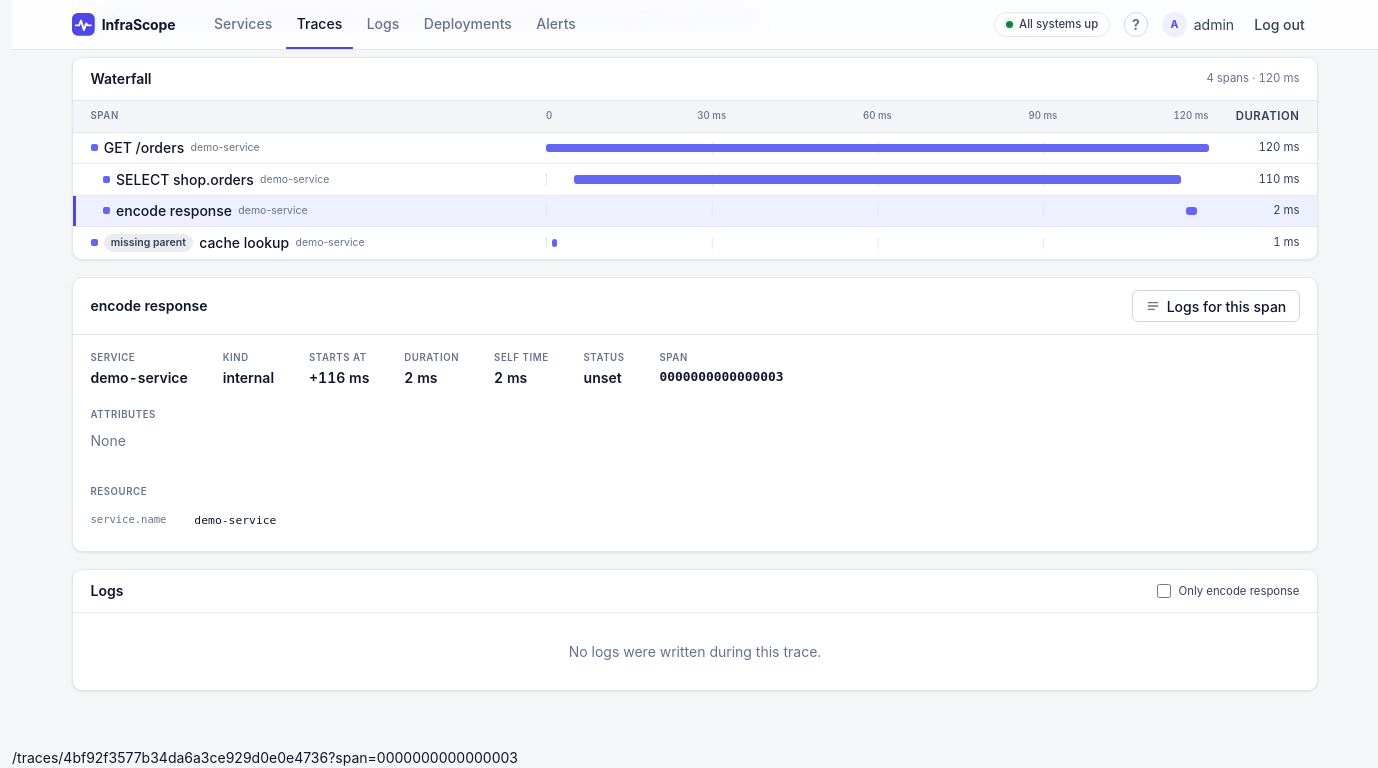
Test: trace detail › narrows the logs to the selected span
(page scrolled)
Check: the text "No logs were written during this trace." is shown, box [569,643,821,660]
Click the checkbox labelled "Only encode response".
click(1164, 591)  # box [1158,584,1172,598]
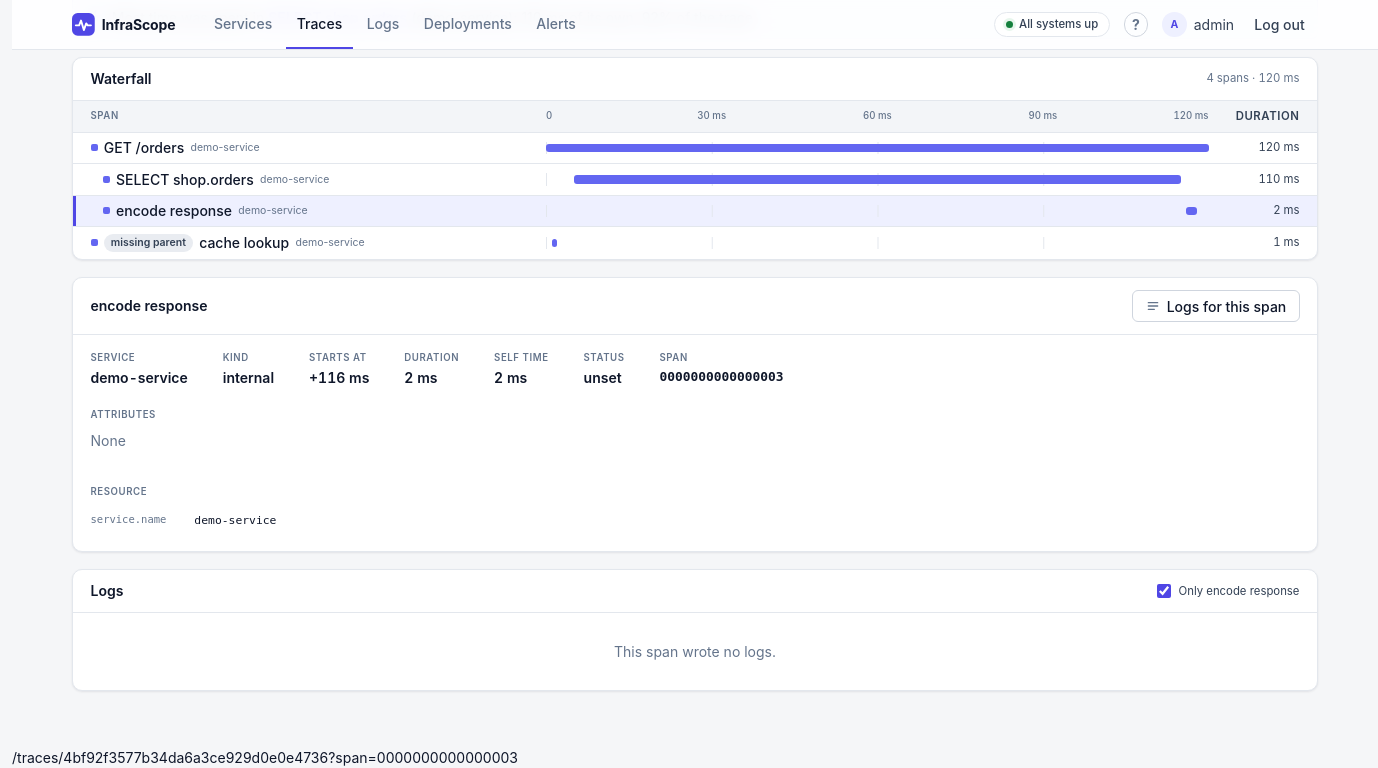
Check: the text "This span wrote no logs." is shown, box [614,643,776,660]
